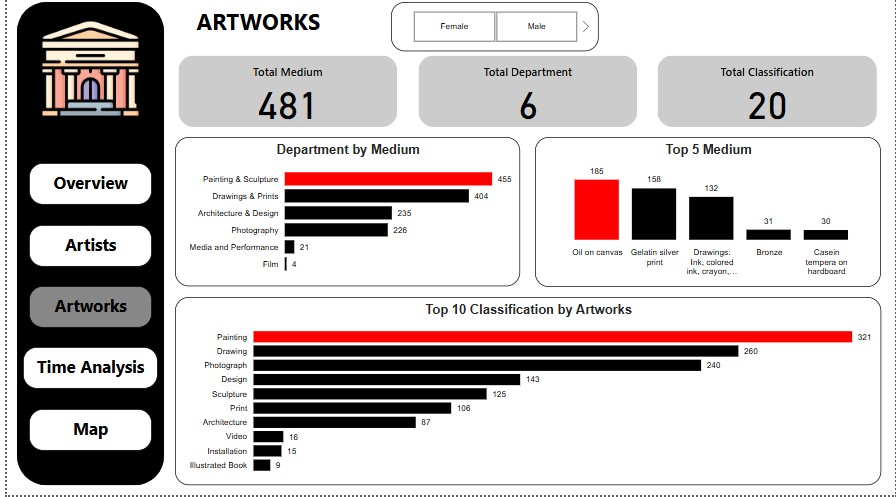

The page's visual inventory and layout, read from the dashboard file:
{"tool":"powerbi","page":{"name":"Artworks","canvas":[1280,720],"ordinal":2},"visuals":[{"type":"shape","box":[14.5,10.5,211.8,696.1],"z":0},{"type":"textbox","box":[31.2,242.4,177.2,59.5],"z":1000},{"type":"cardVisual","fields":{"Data":["Calculation.Total Medium"]},"box":[241.9,82.1,325.4,113.8],"z":2000},{"type":"textbox","box":[31.2,330.9,177.2,59.5],"z":3000},{"type":"cardVisual","fields":{"Data":["Calculation.Total Department"]},"box":[587.5,82.1,325.4,113.8],"z":4000},{"type":"barChart","title":"Department by Medium","fields":{"Category":["Artworks.Department"],"Y":["Calculation.Total Artworks"]},"box":[241.9,204.5,496.8,214.6],"z":5000},{"type":"textbox","box":[31.2,596.7,177.2,59.5],"z":6000},{"type":"columnChart","title":"Top 5 Medium","fields":{"Category":["Artworks.Medium"],"Y":["CountNonNull(Artworks.ObjectID)"]},"box":[760.3,204.5,498.2,216],"z":7000},{"type":"textbox","box":[31.2,419.5,177.2,59.5],"z":8000},{"type":"barChart","title":"Top 10 Classification by Artworks","fields":{"Category":["Artworks.Classification"],"Y":["Calculation.Total Artworks"]},"box":[241.9,434.9,1016.6,270.7],"z":9000},{"type":"cardVisual","fields":{"Data":["Calculation.Total Classification"]},"box":[931.7,82.1,326.9,113.8],"z":10000},{"type":"textbox","box":[240,10,243.3,63.3],"z":11000},{"type":"image","box":[31.2,26.9,177.2,157.3],"z":12000},{"type":"actionButton","box":[31.7,419,177.1,60.5],"z":13000},{"type":"textbox","box":[22.7,507.4,194.2,59.5],"z":14000},{"type":"slicer","fields":{"Values":["Artists.Gender"]},"box":[552.8,9.9,299.1,70.9],"z":15000}]}

Visuals, with their boxes in screenshot pixels (x1, y1, x2, y2), scaled from the page's 1280x720 canvas onto the 896x497 screenshot:
shape: box=[10, 7, 158, 488]
textbox: box=[22, 167, 146, 208]
cardVisual - Calculation.Total Medium: box=[169, 57, 397, 135]
textbox: box=[22, 228, 146, 269]
cardVisual - Calculation.Total Department: box=[411, 57, 639, 135]
"Department by Medium" barChart: box=[169, 141, 517, 289]
textbox: box=[22, 412, 146, 453]
"Top 5 Medium" columnChart: box=[532, 141, 881, 290]
textbox: box=[22, 290, 146, 331]
"Top 10 Classification by Artworks" barChart: box=[169, 300, 881, 487]
cardVisual - Calculation.Total Classification: box=[652, 57, 881, 135]
textbox: box=[168, 7, 338, 51]
image: box=[22, 19, 146, 127]
actionButton: box=[22, 289, 146, 331]
textbox: box=[16, 350, 152, 391]
slicer - Artists.Gender: box=[387, 7, 596, 56]
